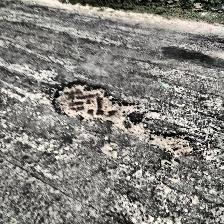pothole: (51, 79, 149, 137)
